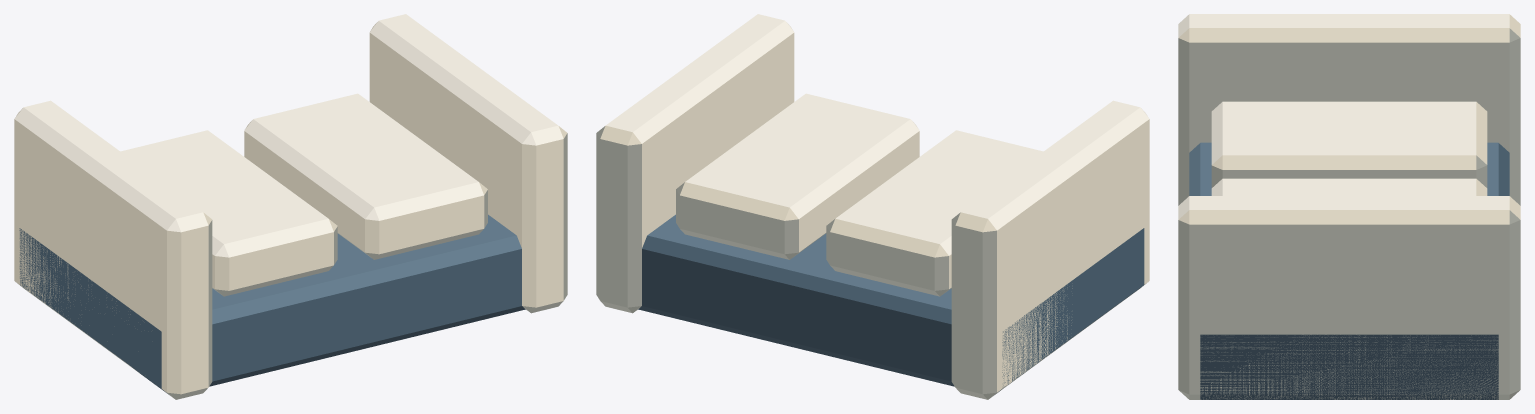
The model's file is Plate_Latch.gltf.
3 renders of one model, left to right at view 1: azimuth 30°, elevation 25°; view 2: azimuth 150°, elevation 25°; view 3: azimuth 270°, elevation 25°, orthographic. The views are drawn at different scales.
Visible parts, largest first — view 1: Plate_Latch_baked; view 2: Plate_Latch_baked; view 3: Plate_Latch_baked.
Boxes of the visible parts, x1,y1,x2,y2 form: Plate_Latch_baked: (14,14,567,399); Plate_Latch_baked: (596,14,1149,399); Plate_Latch_baked: (1178,14,1520,399).
Bounding box in the file's own units: 0.88 × 0.38 × 0.62.
